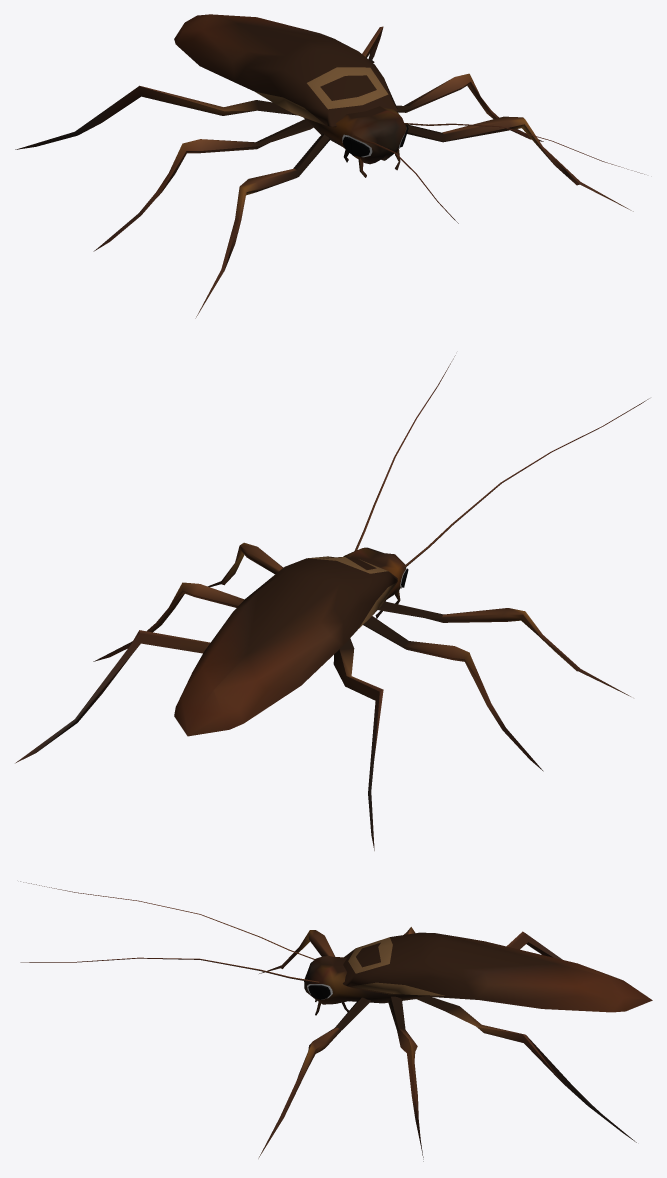
The model's file is kit-cockroach.glb.
3 views of the same model, one above another, from view 1: azimuth 30°, elevation 25°; view 2: azimuth 150°, elevation 25°; view 3: azimuth 270°, elevation 25° (orthographic). The views are drawn at different scales.
Parts seen in each view (by area): view 1: base; view 2: base; view 3: base.
Boxes of the visible parts, x1=… form: base: x1=15, y1=14, x2=644, y2=318; base: x1=15, y1=355, x2=649, y2=850; base: x1=20, y1=881, x2=652, y2=1161.
Size of the model in its own units: 1.47 by 0.5304 by 2.08.
